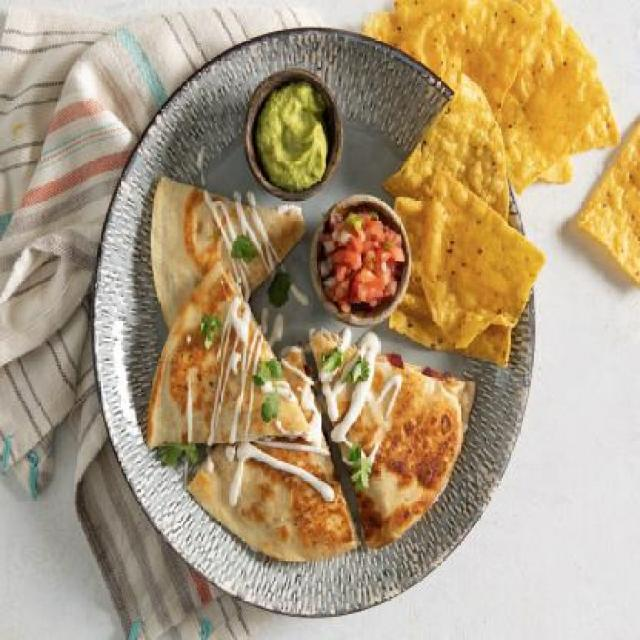chicken quesadilla: (141, 164, 482, 568)
guacamole: (256, 76, 335, 193)
